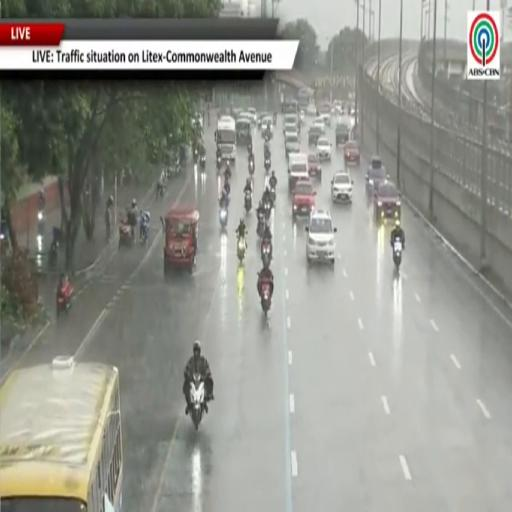bus: (0, 357, 122, 511), (215, 117, 236, 161), (298, 88, 314, 110), (282, 100, 299, 116)
car: (306, 210, 336, 264), (373, 181, 401, 221), (366, 155, 388, 196), (292, 180, 315, 219), (288, 154, 309, 194), (331, 171, 353, 202), (344, 141, 360, 166), (336, 121, 351, 147), (316, 137, 331, 161), (308, 154, 321, 180), (285, 133, 299, 156), (308, 125, 323, 146), (283, 115, 300, 132), (318, 103, 331, 125), (261, 117, 273, 137), (258, 112, 272, 129), (313, 117, 325, 134), (283, 123, 298, 136), (236, 111, 253, 122), (192, 112, 203, 127), (248, 108, 257, 124), (231, 107, 243, 119), (306, 104, 316, 117), (334, 101, 342, 114), (300, 110, 305, 123)
motorcycle: (189, 374, 206, 429), (57, 282, 73, 316), (119, 221, 134, 248), (261, 280, 270, 316), (48, 239, 58, 269), (261, 239, 272, 265), (393, 238, 402, 269), (105, 207, 112, 243), (237, 237, 245, 264), (140, 222, 148, 245), (219, 208, 227, 229), (245, 190, 252, 213), (257, 215, 264, 237), (264, 201, 272, 220), (38, 210, 44, 235), (156, 183, 164, 199), (264, 158, 271, 173), (270, 187, 276, 204), (200, 155, 205, 171), (249, 159, 254, 175), (194, 148, 198, 163), (248, 143, 253, 155), (217, 156, 221, 170), (273, 114, 276, 125)
tricycle: (161, 208, 199, 274)
